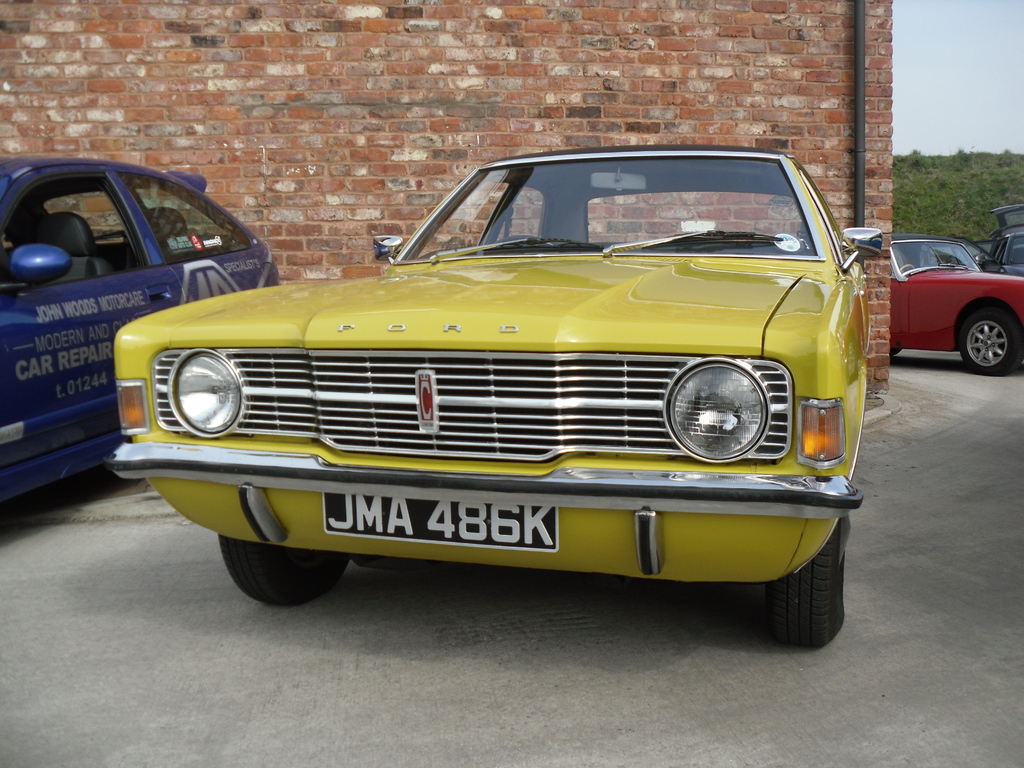Car: (105, 139, 889, 655), (0, 152, 281, 516), (887, 236, 1023, 371), (984, 229, 1023, 275)
